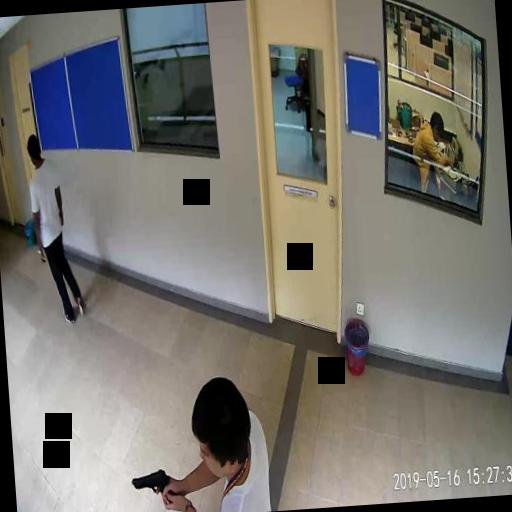Handgun: (131, 468, 174, 504)
